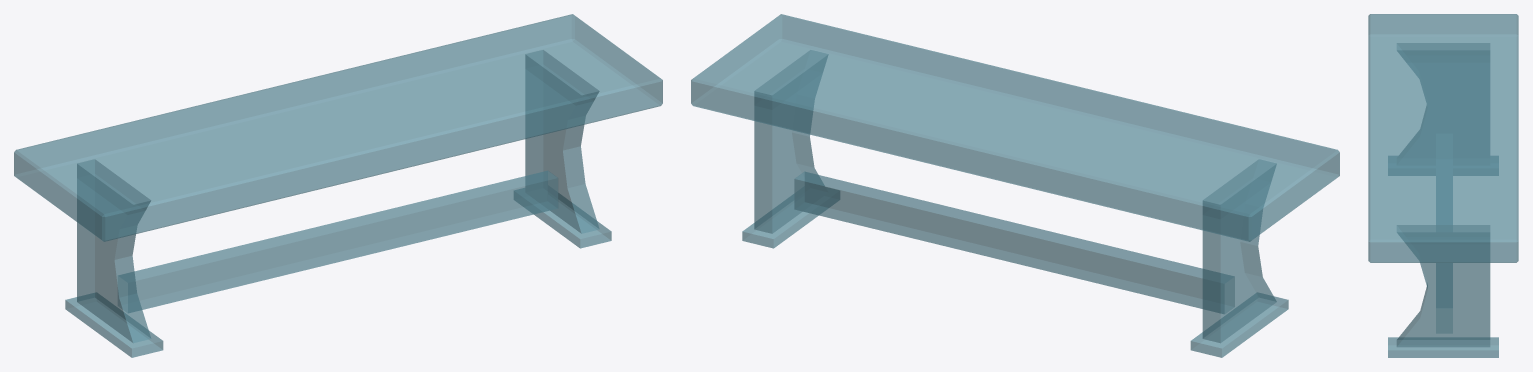
The model's file is Bench_Concrete.fbx.
The picture shows the model from 3 angles, left to right: view 1: azimuth 30°, elevation 25°; view 2: azimuth 150°, elevation 25°; view 3: azimuth 270°, elevation 25°; orthographic projection. The views are drawn at different scales.
Parts seen in each view (by area): view 1: Bench_Concrete; view 2: Bench_Concrete; view 3: Bench_Concrete.
Part boxes in pixels (box(x1,y1,x2,y2)): Bench_Concrete: box(14, 14, 662, 357); Bench_Concrete: box(691, 14, 1339, 357); Bench_Concrete: box(1368, 14, 1518, 357).
Bounding box in the file's own units: 358 × 98.31 × 100.
